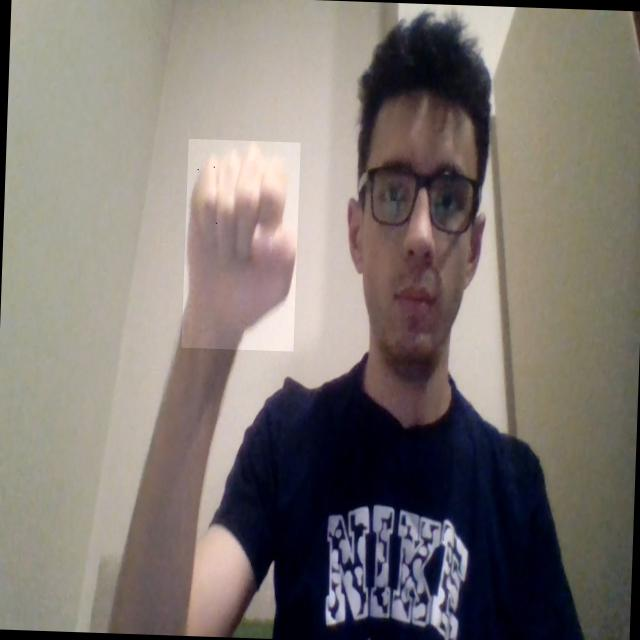yes: (181, 138, 300, 351)
